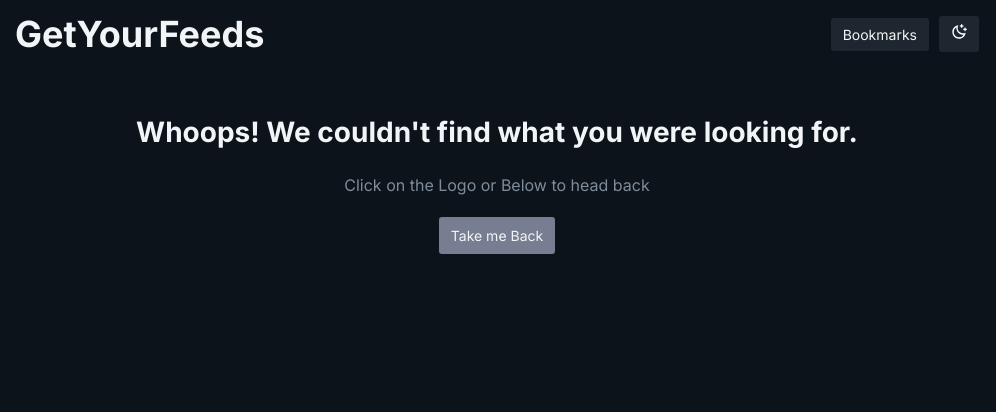
it: landing on a bad page
The width and height of the screenshot is (996, 412).
Step 1. Click the link "Take me Back" → {"x": 497, "y": 236}, box [439,217,555,254]
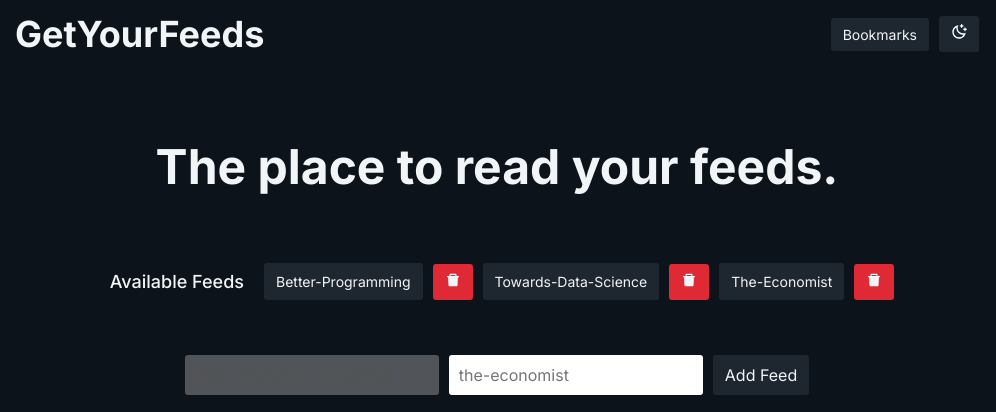
Expected: the heading "The place to read your feeds." is shown, [156,131,838,203]
